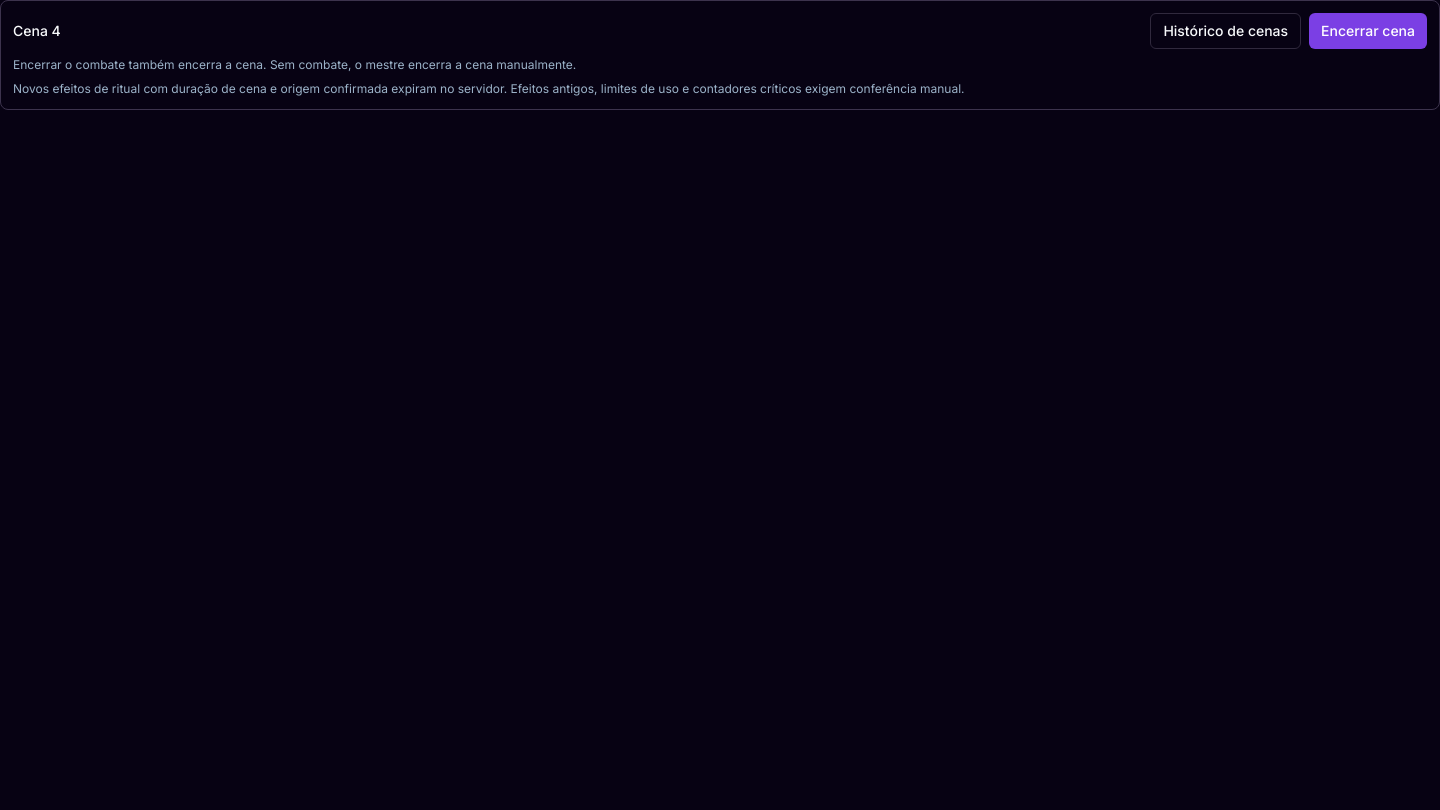
Cena, avisos e histórico visíveis › histórico paginado mantém ordem e carrega apenas cenas anteriores
Click the button "Histórico de cenas".
click(1226, 31)  # box [1150,13,1301,49]
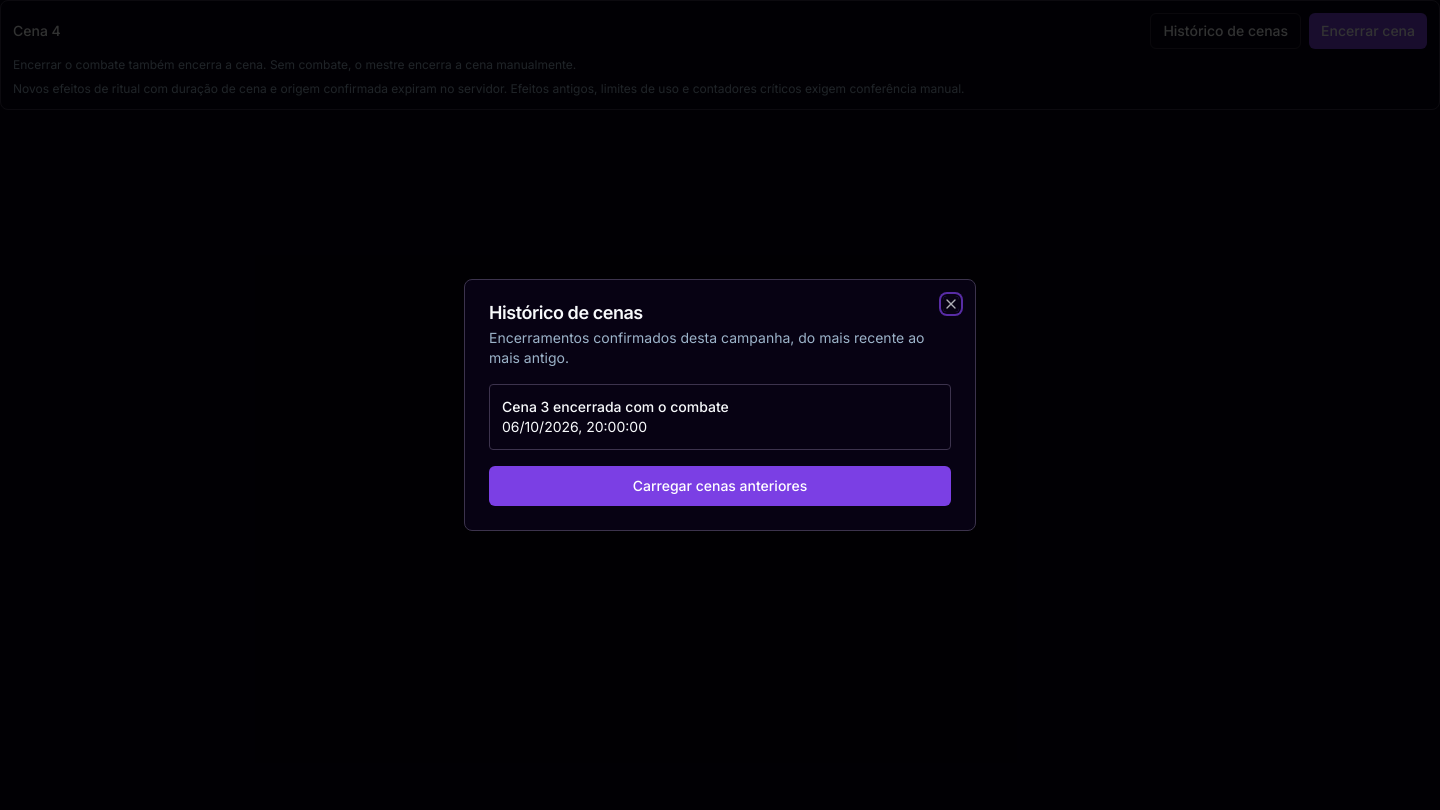
Result: the text "Cena 3 encerrada com o combate" is shown at [502,398,729,415]
Click the button "Carregar cenas anteriores".
click(720, 486)  # box [489,466,951,506]
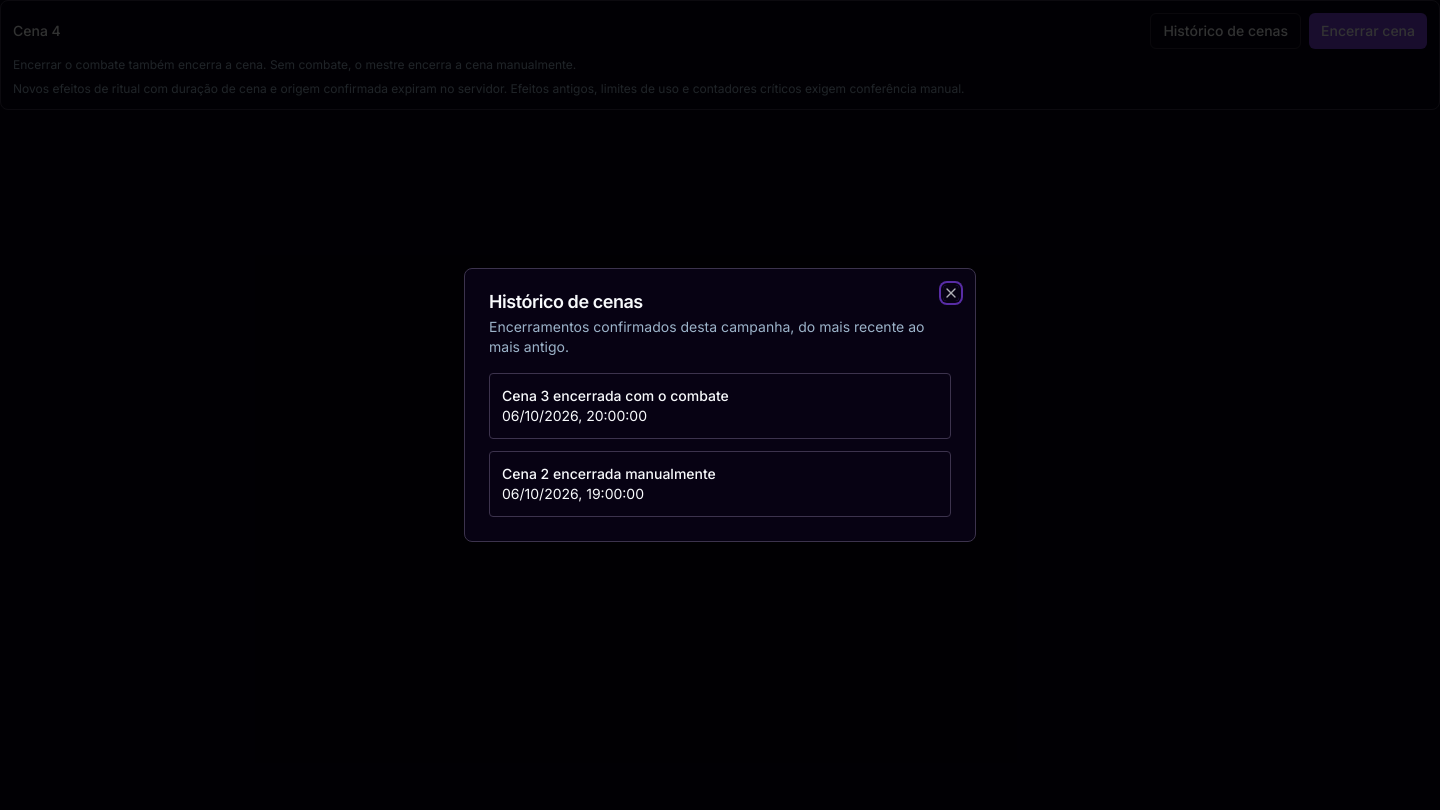
Result: the text "Cena 2 encerrada manualmente" is shown at [502,465,716,482]
